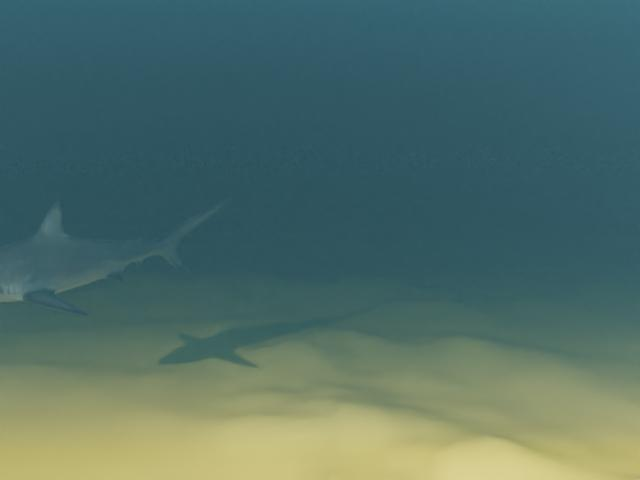Carribean Shark.001: (0, 198, 232, 316)
